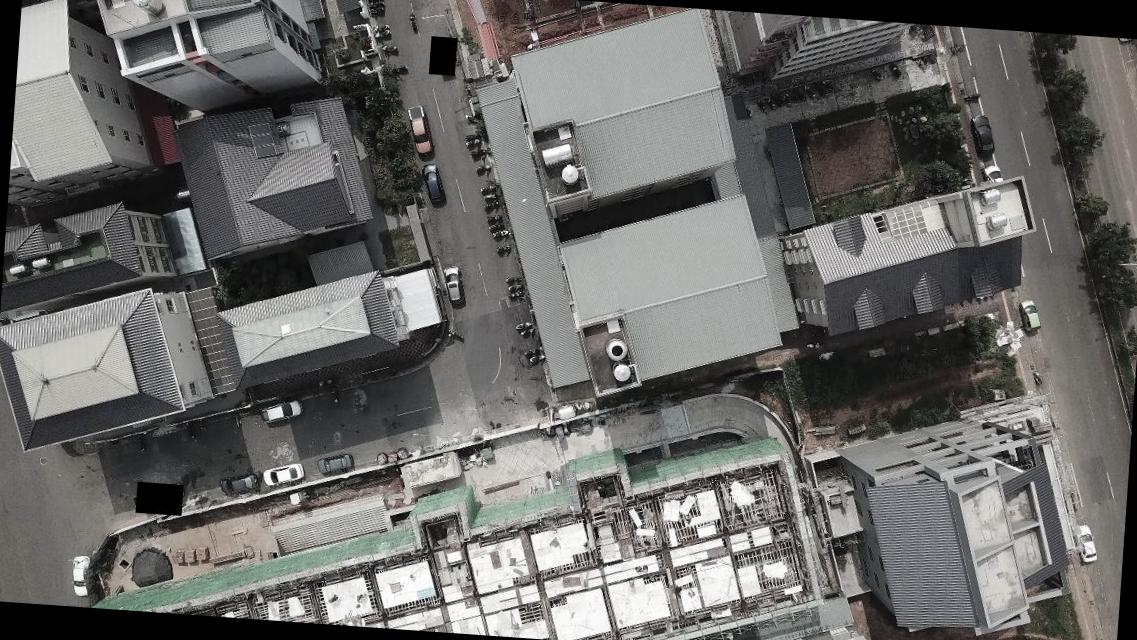vehicle: (403, 105, 434, 154), (256, 396, 303, 426), (260, 458, 304, 489), (418, 162, 446, 206), (969, 114, 996, 156), (1072, 522, 1100, 562), (65, 551, 88, 598), (314, 451, 354, 476), (218, 472, 258, 496), (440, 264, 464, 302), (1017, 299, 1044, 332), (980, 162, 1006, 185)
